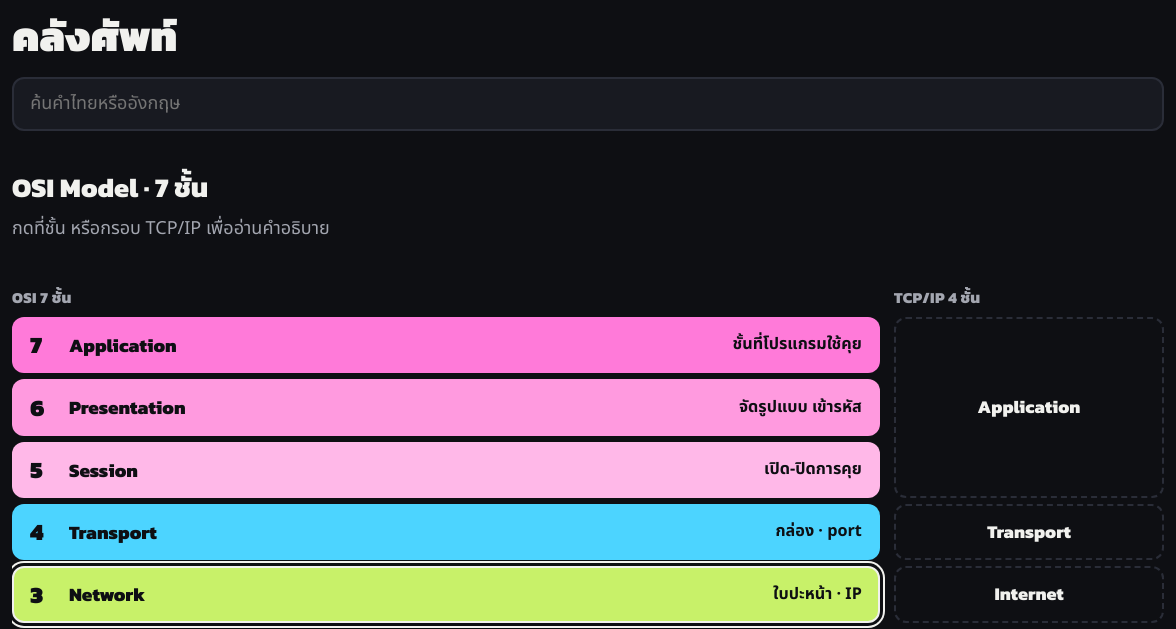
Test: GlossaryPage › ค้นคำว่า "บ้านเลขที่" แล้วเจอ IP address
Type "บ้านเลขที่" into the search field. click: point(588, 104)
box: top-left (12, 77), bottom-right (1164, 131)
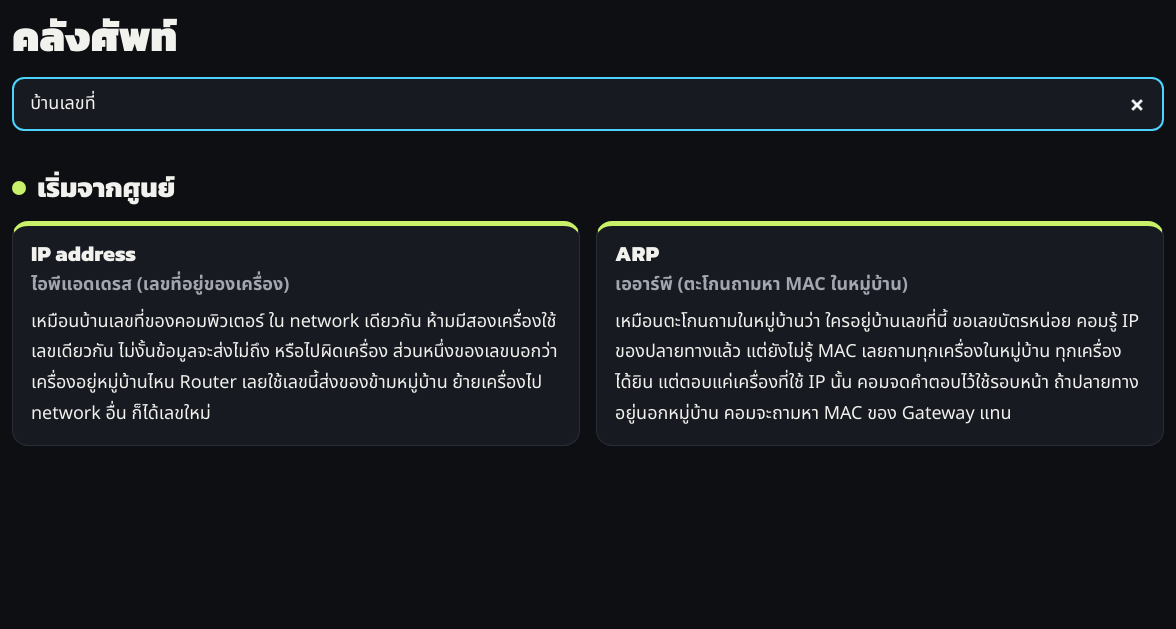
Expected: the heading "IP address" is shown, top-left (31, 237), bottom-right (136, 270)
